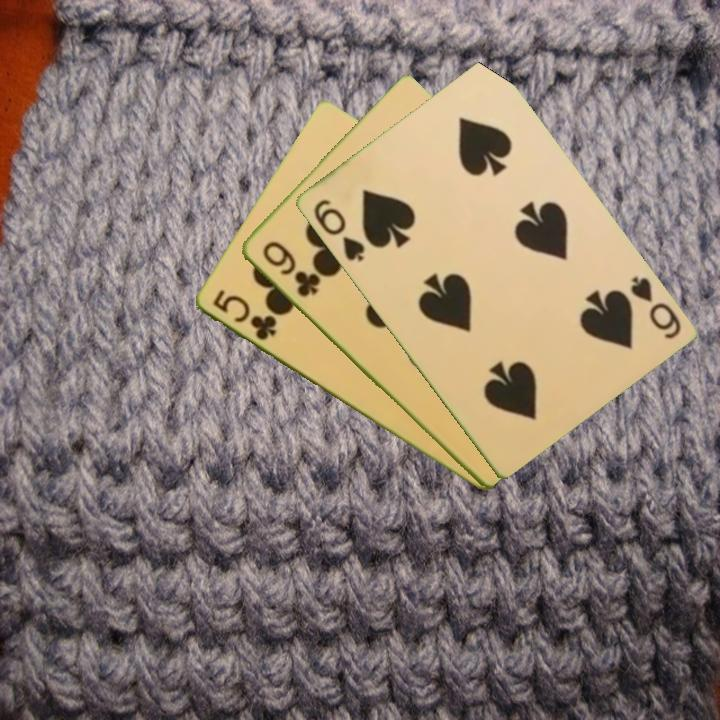5c: (208, 285, 279, 344)
6s: (309, 195, 367, 265), (626, 272, 684, 342)
9c: (258, 237, 322, 301)
